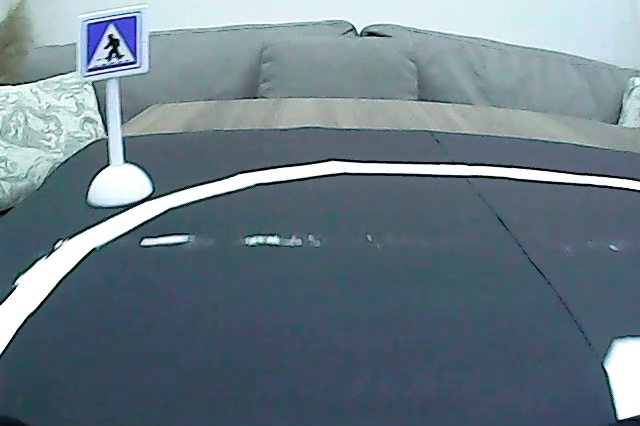pedestrian crossing: (83, 13, 142, 74)
